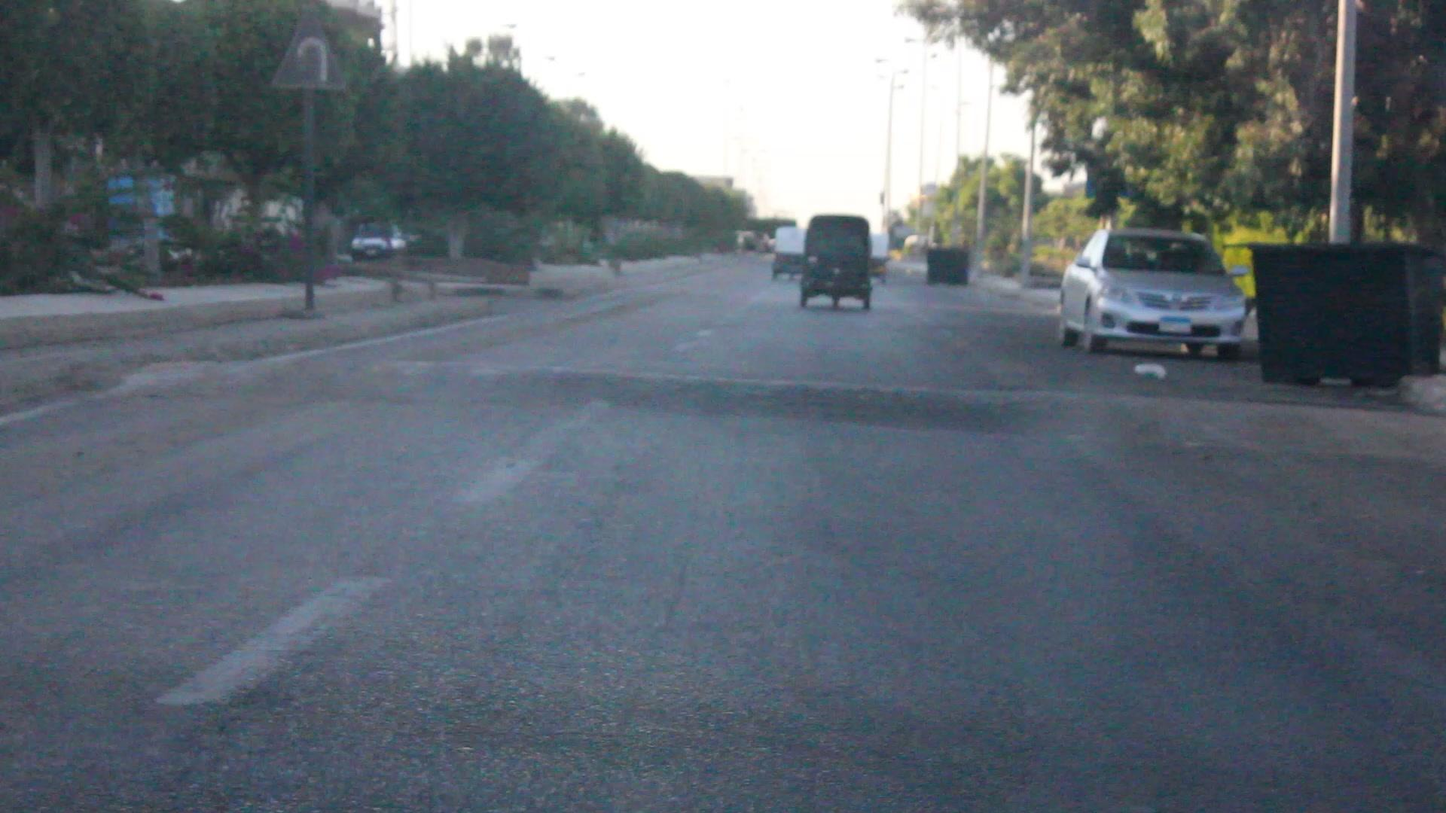Bump: (201, 348, 1446, 487)
